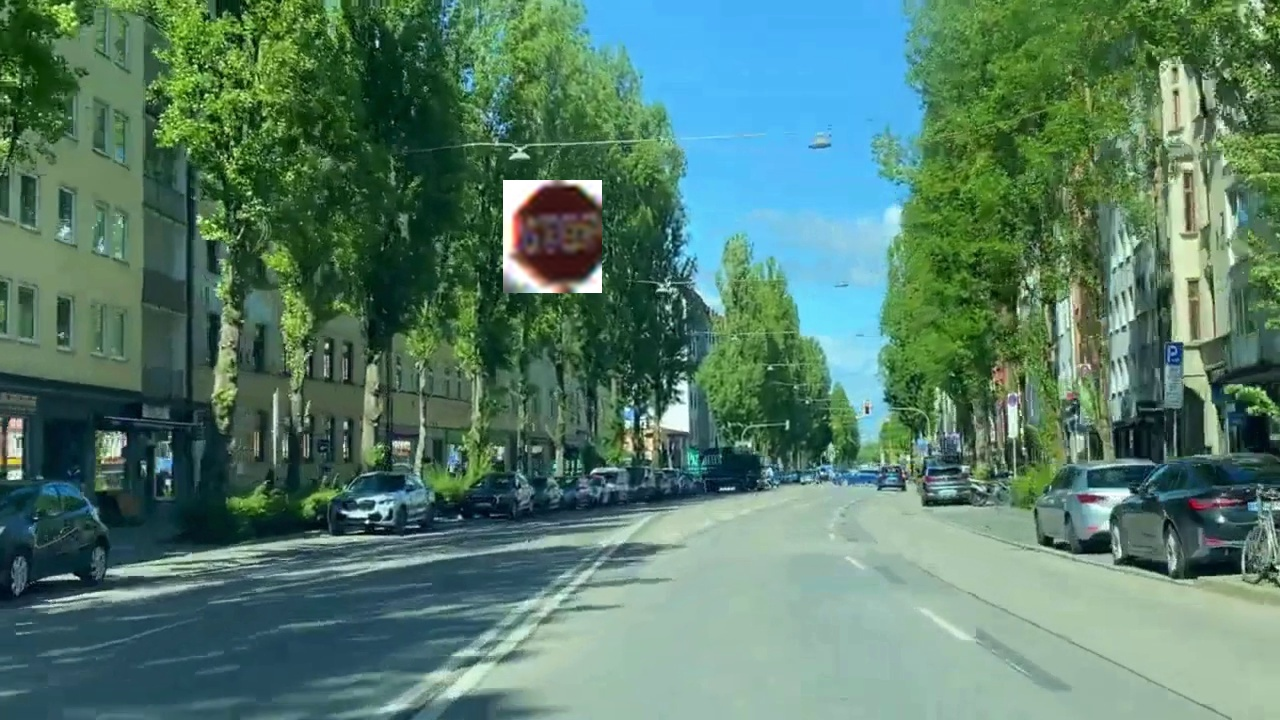Stop: (503, 180, 602, 293)
